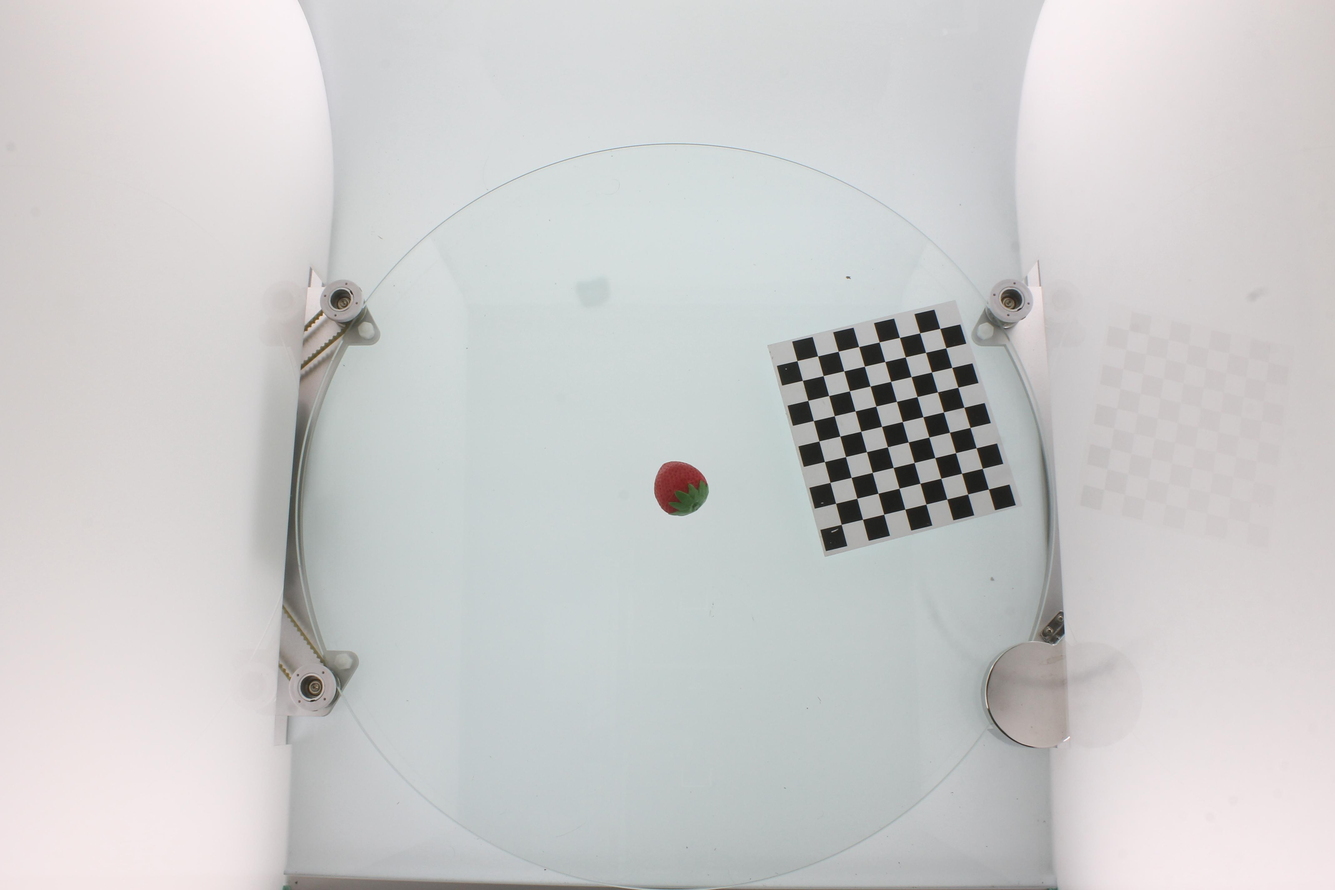strawberry: (654, 462, 708, 515)
